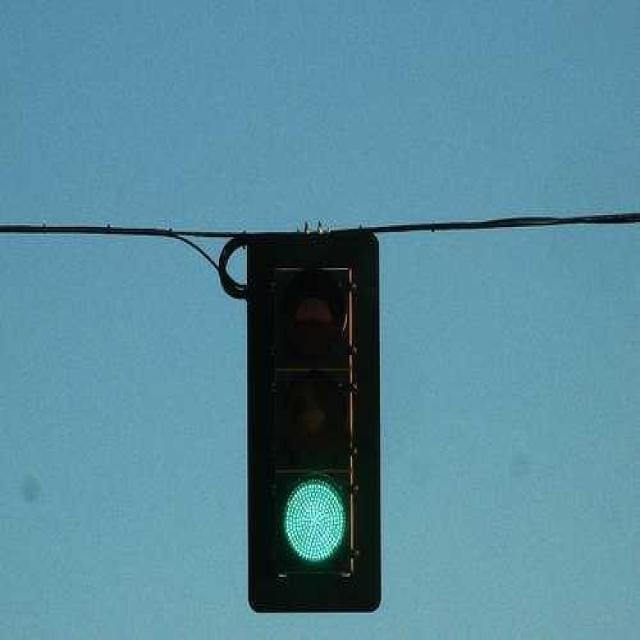Traffic Light -Green-: (238, 222, 386, 619)
